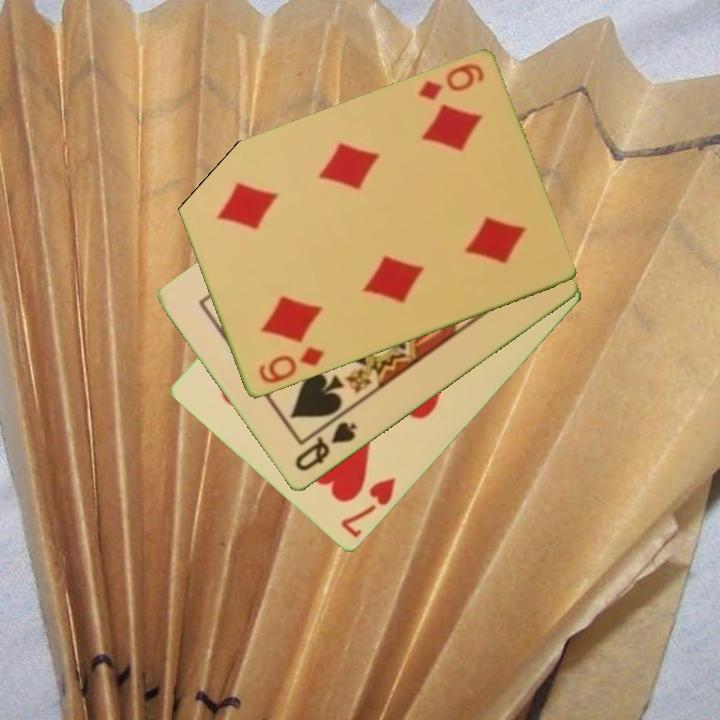6d: (254, 343, 328, 388), (414, 60, 487, 104)
7h: (337, 474, 399, 541)
Qs: (291, 418, 360, 475)
